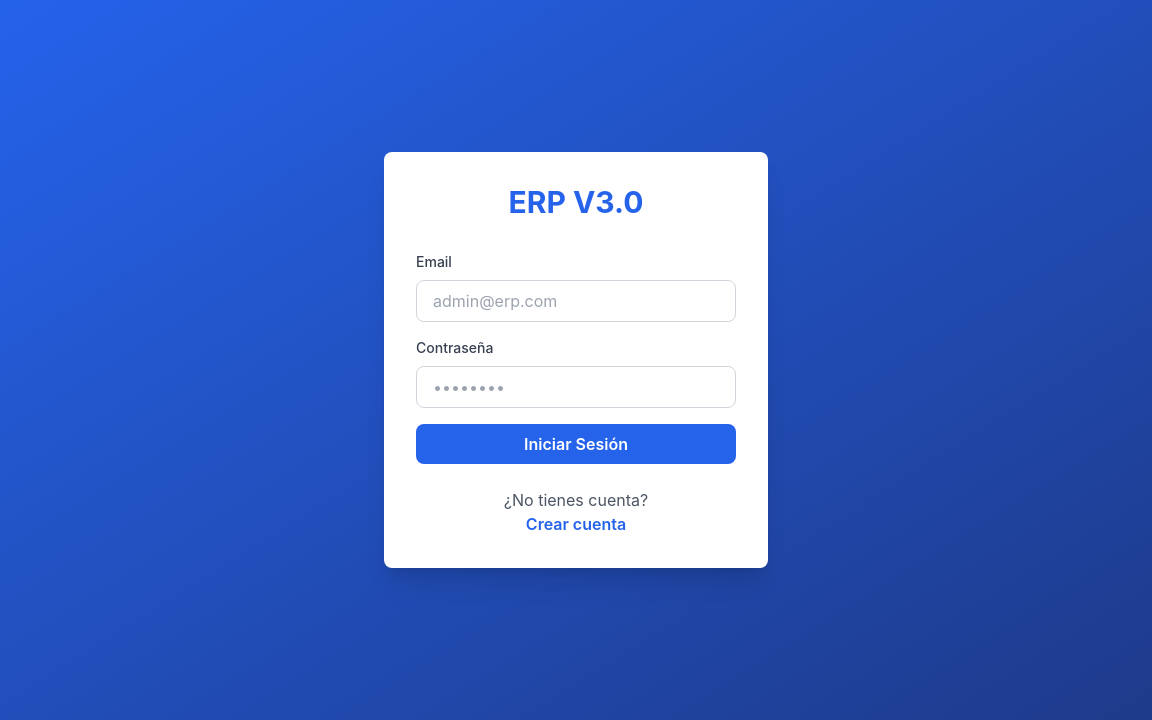
Test case: LoginPage › should show validation errors for empty fields
This screenshot has width=1152, height=720.
Click the button "Iniciar Sesión".
click(576, 444)  # box [416,424,736,464]
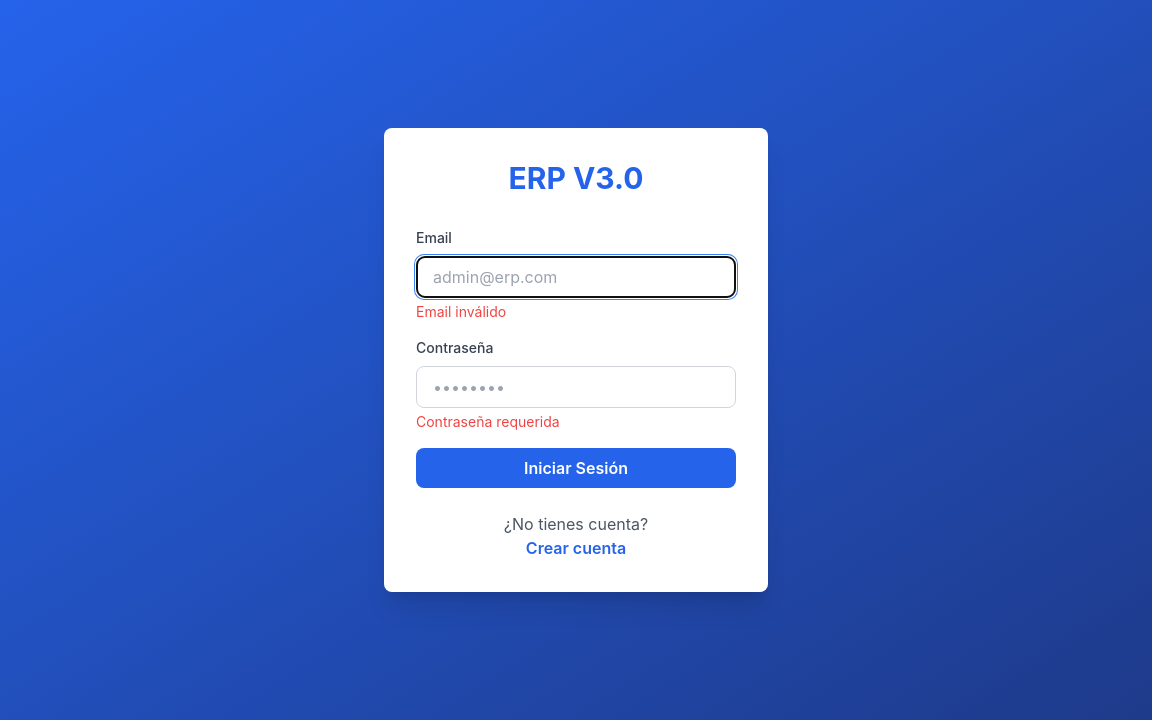
Result: the text "Email inválido" is shown at [416,303,506,320]
